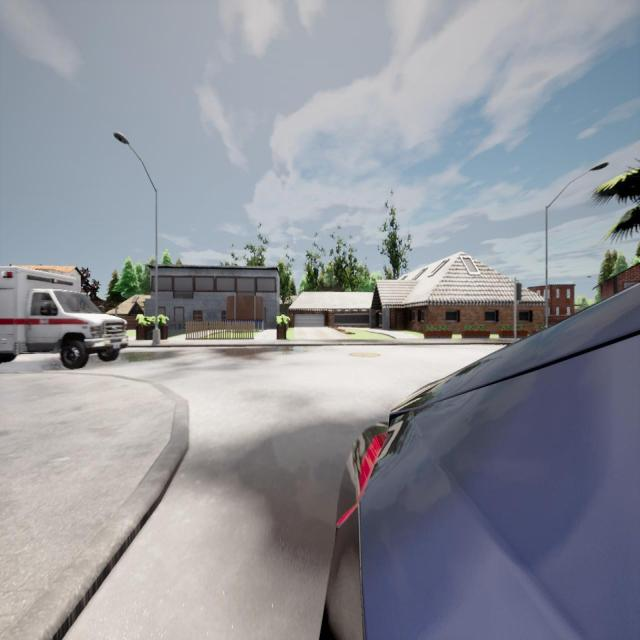Vehicle: (320, 281, 640, 639), (0, 262, 127, 369)
traffic_light: (516, 283, 522, 301)
